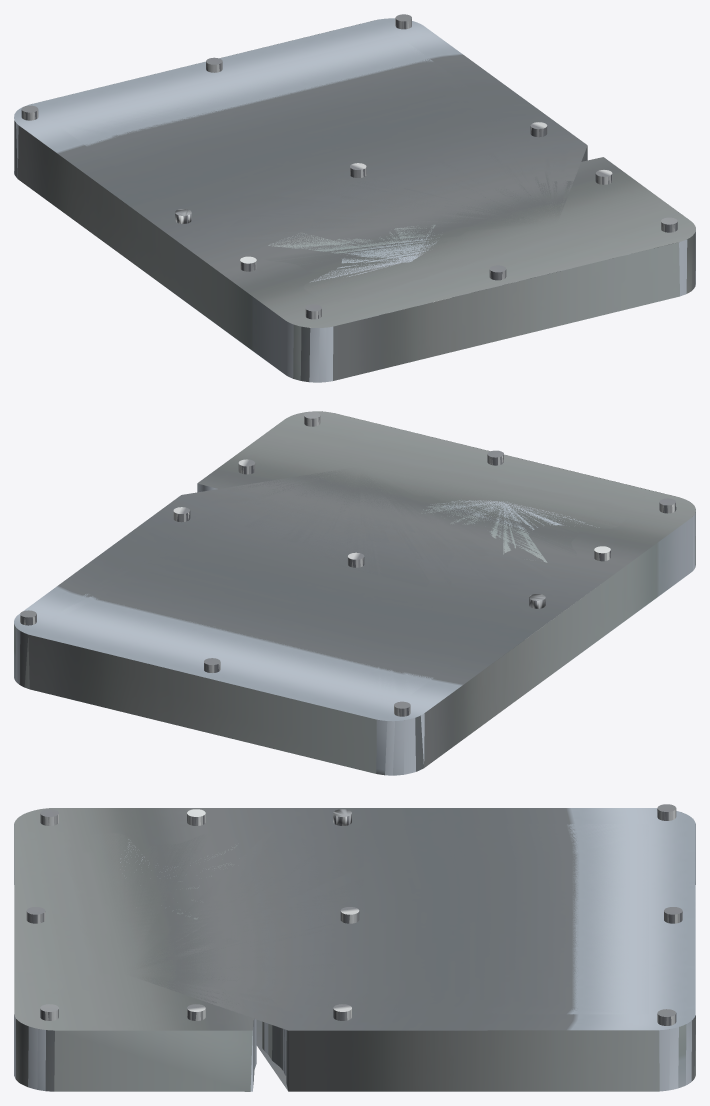
Rendered from FormiTRUE.fbx.
3 views of the same model, one above another, from view 1: azimuth 30°, elevation 25°; view 2: azimuth 150°, elevation 25°; view 3: azimuth 270°, elevation 25° (orthographic). The views are drawn at different scales.
Parts seen in each view (by area): view 1: layer 3; view 2: layer 3; view 3: layer 3.
Part boxes in pixels (<box>): layer 3: <box>14,18,695,382</box>; layer 3: <box>14,411,695,775</box>; layer 3: <box>14,808,695,1091</box>.
Size of the model in its own units: 3123 by 459 by 4040.
